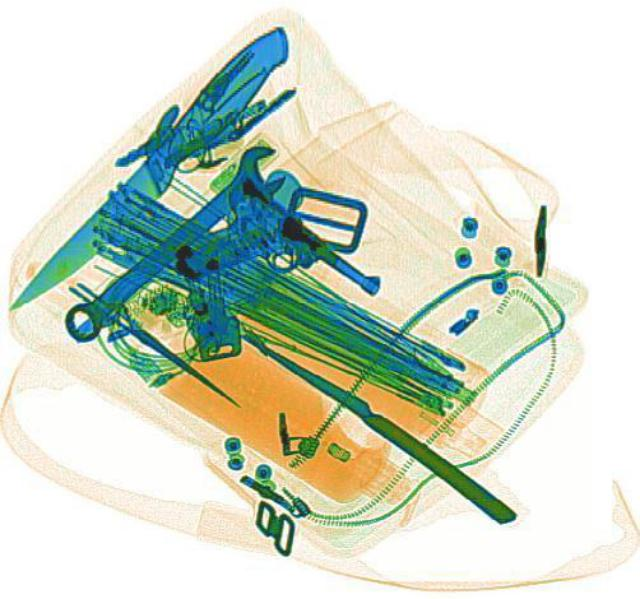Gun: (157, 171, 387, 364)
Knife: (0, 15, 309, 314), (242, 326, 522, 527), (67, 278, 243, 407)
Wrench: (48, 135, 298, 348)
